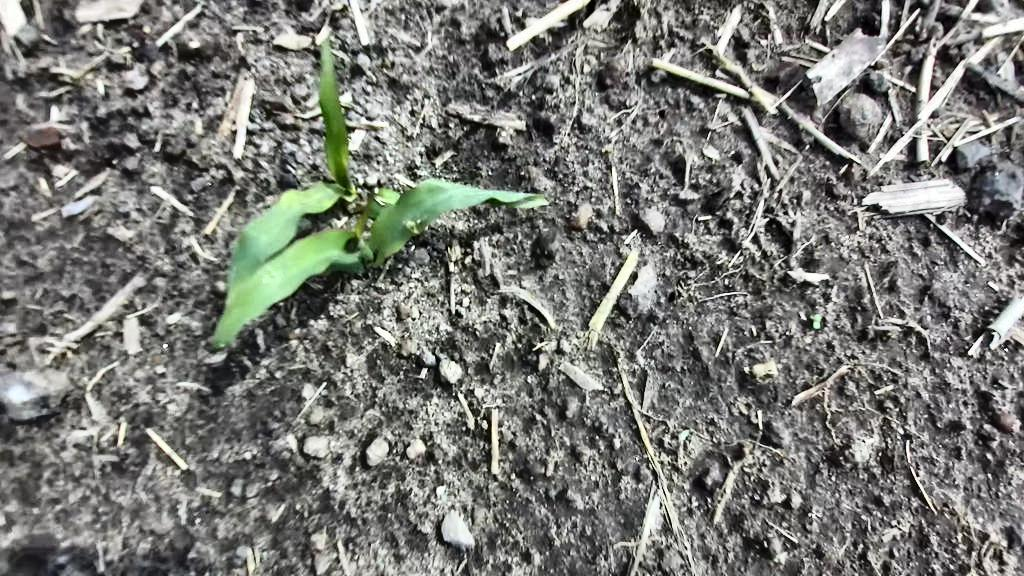BroWeed: (271, 22, 314, 61), (353, 49, 377, 87), (716, 99, 745, 130), (308, 21, 337, 46), (750, 358, 779, 380), (699, 141, 723, 163), (599, 140, 620, 160), (676, 426, 692, 442), (434, 484, 448, 502), (995, 535, 1011, 549), (338, 91, 352, 104), (811, 313, 822, 329), (341, 101, 359, 110), (988, 530, 998, 545), (413, 169, 430, 177), (339, 105, 349, 116), (415, 146, 426, 154)
Maize: (182, 125, 551, 356), (198, 27, 453, 353)
